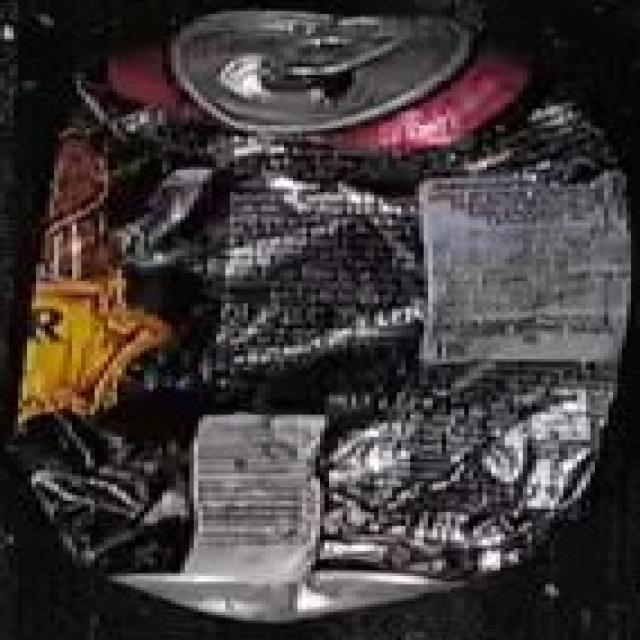litter: (18, 8, 625, 618)
